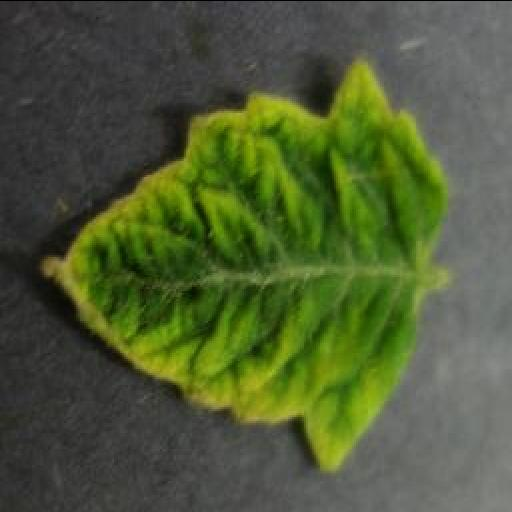disease_tomato: (34, 58, 450, 472)
